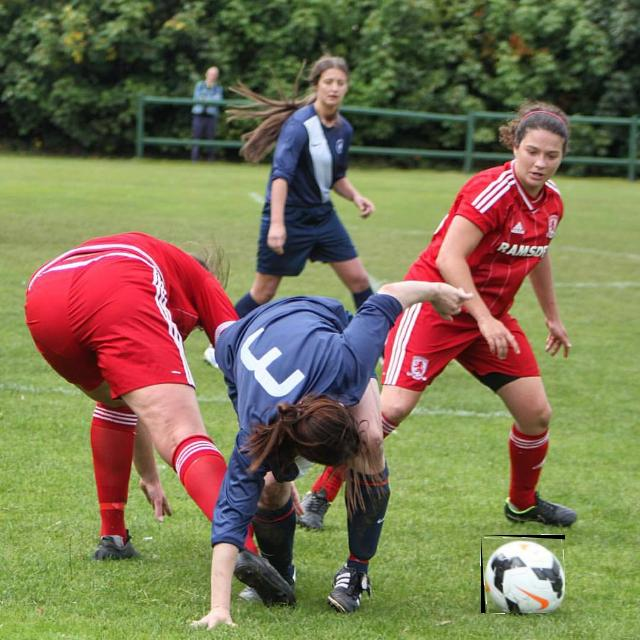Football: (481, 535, 565, 613)
